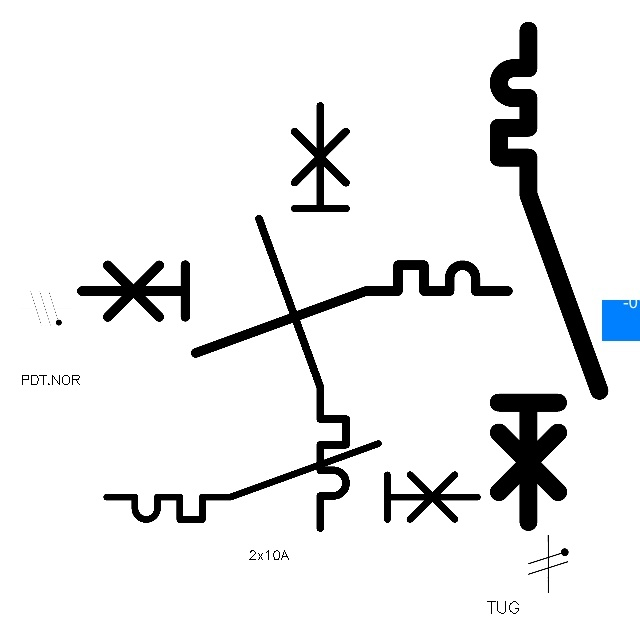interruptor_termomagnetico: (486, 18, 612, 534), (70, 254, 518, 363), (248, 95, 357, 539), (97, 434, 487, 529)
